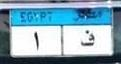1: (33, 30, 41, 51)
faa: (79, 29, 95, 47)
